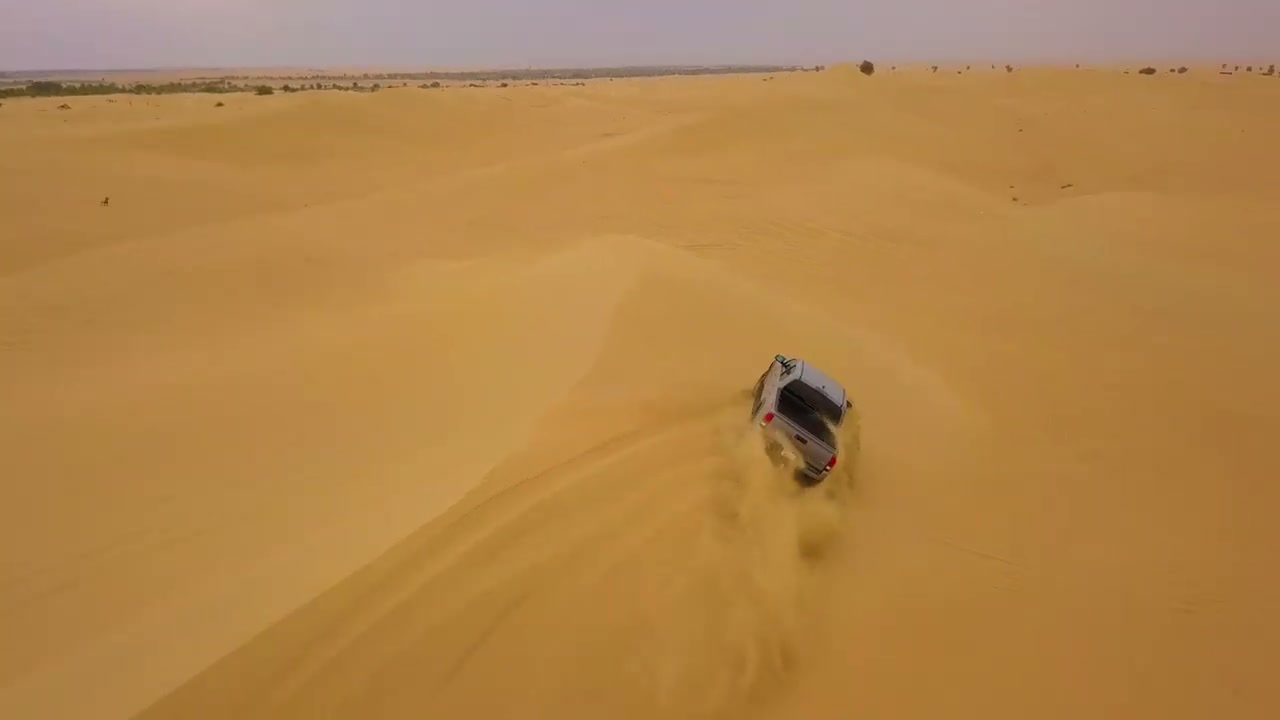vehicle_track: (268, 387, 742, 711), (415, 462, 740, 715)
